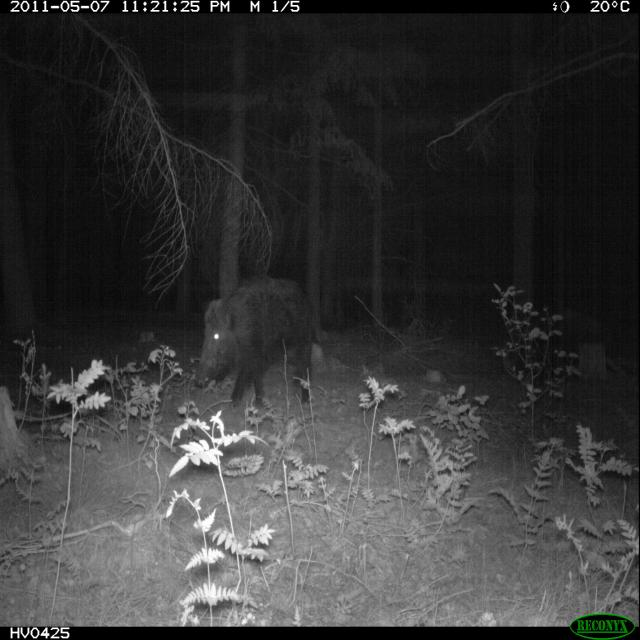boar: (181, 242, 334, 438)
